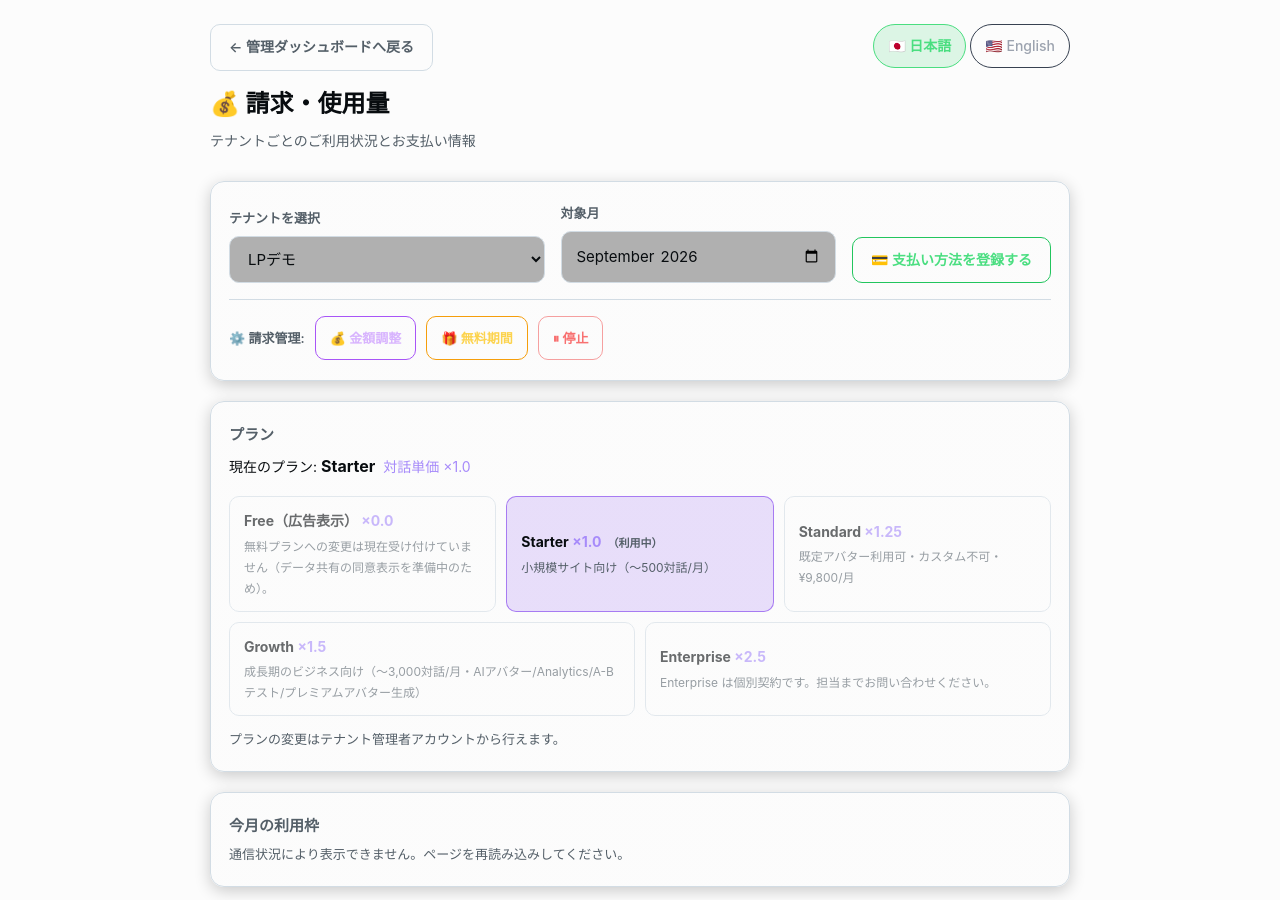
it: BillingPage — Stripeオンボーディング導線 (PR-7) › super_admin: onboard APIが失敗レスポンスを返したら失敗トーストを出し、ボタンは残る(再試行可能)
The image size is (1280, 900).
Click the button "💳 支払い方法を登録する". click: (952, 260)
box: [852,236,1051,283]
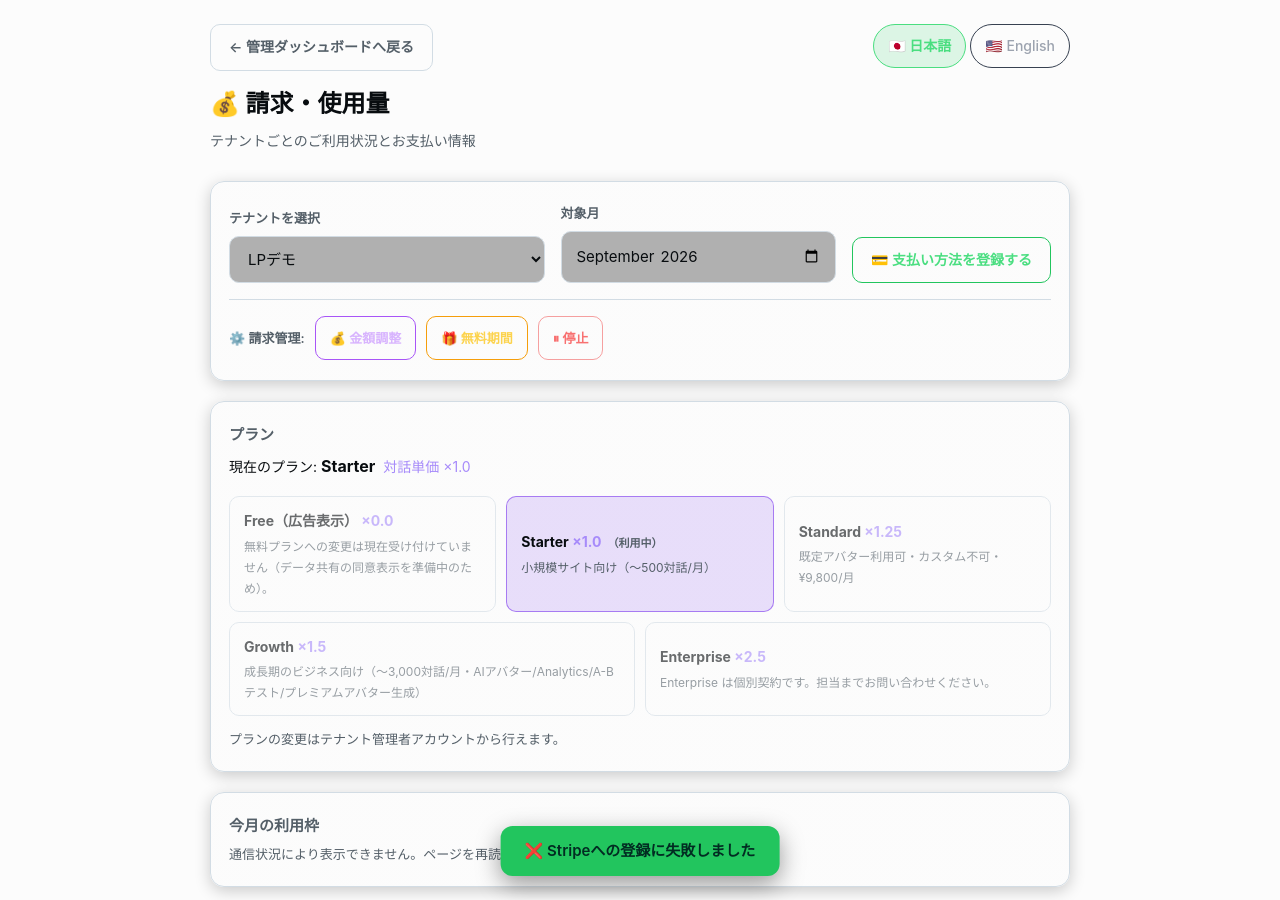
Now the text "❌ Stripeへの登録に失敗しました" is shown, box [501,826,779,876]
